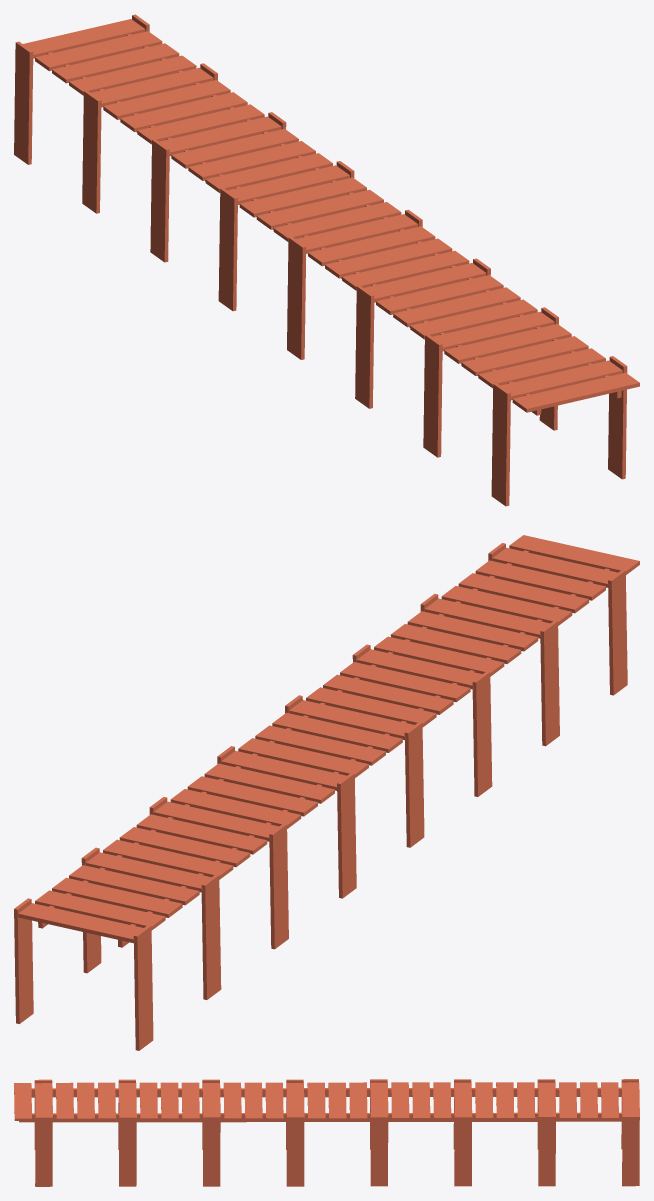
The model's file is dock.glb.
3 renders of one model, top to bottom at view 1: azimuth 30°, elevation 25°; view 2: azimuth 150°, elevation 25°; view 3: azimuth 270°, elevation 25°, orthographic. The views are drawn at different scales.
Visible parts, largest first — view 1: dock; view 2: dock; view 3: dock.
Boxes of the visible parts, <box> form: dock: <box>14,14,639,506</box>; dock: <box>14,535,639,1050</box>; dock: <box>14,1079,639,1186</box>.
Size of what is drawn, in the model's own units: 3.67 by 3.16 by 24.8.
